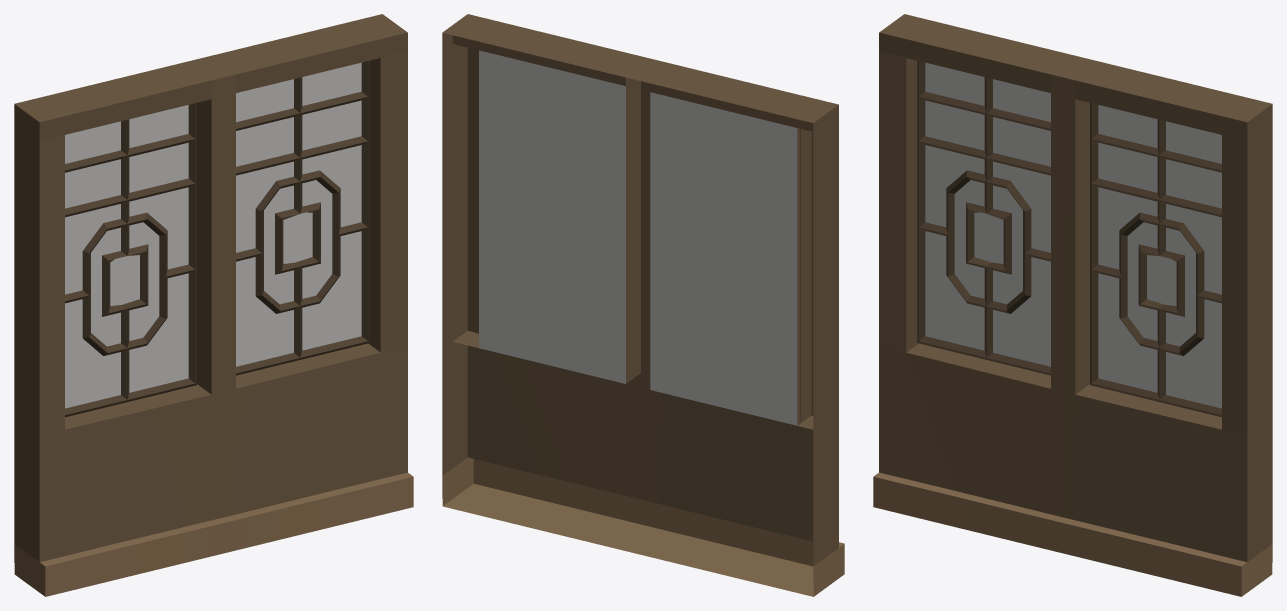
The model's file is SM_Env_Door_17.fbx.
The picture shows the model from 3 angles, left to right: view 1: azimuth 30°, elevation 25°; view 2: azimuth 150°, elevation 25°; view 3: azimuth 330°, elevation 25°; orthographic projection.
Parts seen in each view (by area): view 1: SM_Env_Door_17; view 2: SM_Env_Door_17; view 3: SM_Env_Door_17.
Part boxes in pixels (left/top/right/bottom): SM_Env_Door_17: left=14, top=14, right=413, bottom=596; SM_Env_Door_17: left=442, top=14, right=844, bottom=596; SM_Env_Door_17: left=873, top=14, right=1272, bottom=596.
Bounding box in the file's own units: 104 × 127 × 15.25.
Materials: 1 (1 with a texture image).
